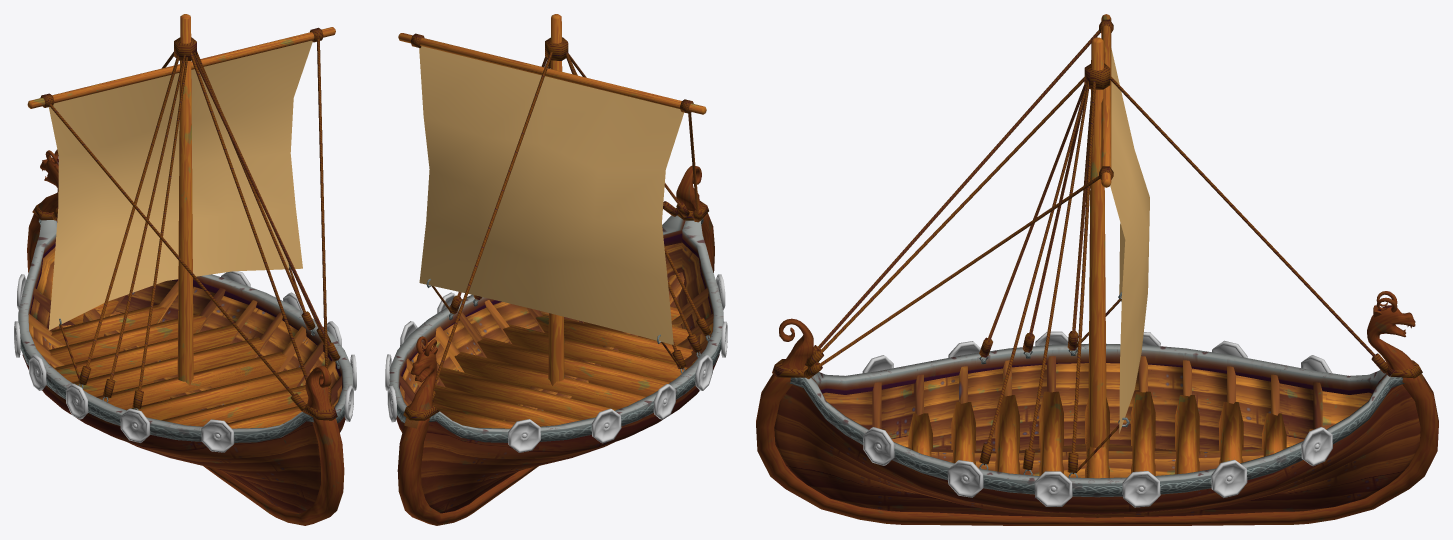
The model's file is VikingShip_ForestProp_003.fbx.
3 renders of one model, left to right at view 1: azimuth 30°, elevation 25°; view 2: azimuth 150°, elevation 25°; view 3: azimuth 270°, elevation 25°, orthographic. The views are drawn at different scales.
Visible parts, largest first — view 1: sail帆.002, Enclosure船围.002, Cabin船舱.002, Hull船身.002, Bottom船底.002, Shield盾牌.002; view 2: sail帆.002, Enclosure船围.002, Hull船身.002, Cabin船舱.002, Bottom船底.002, Shield盾牌.002; view 3: Enclosure船围.002, Cabin船舱.002, Hull船身.002, Bottom船底.002, Shield盾牌.002, sail帆.002.
Part boxes in pixels (left/top/right/bottom): sail帆.002: left=48, top=40, right=312, bottom=330; Enclosure船围.002: left=18, top=14, right=352, bottom=442; Cabin船舱.002: left=28, top=247, right=341, bottom=423; Hull船身.002: left=22, top=226, right=345, bottom=513; Bottom船底.002: left=27, top=149, right=344, bottom=525; Shield盾牌.002: left=14, top=271, right=356, bottom=452; sail帆.002: left=419, top=46, right=683, bottom=344; Enclosure船围.002: left=389, top=14, right=723, bottom=442; Hull船身.002: left=396, top=227, right=719, bottom=513; Cabin船舱.002: left=400, top=242, right=713, bottom=423; Bottom船底.002: left=397, top=166, right=714, bottom=525; Shield盾牌.002: left=385, top=274, right=727, bottom=452; Enclosure船围.002: left=772, top=14, right=1422, bottom=497; Cabin船舱.002: left=822, top=356, right=1372, bottom=477; Hull船身.002: left=774, top=384, right=1420, bottom=517; Bottom船底.002: left=756, top=291, right=1438, bottom=525; Shield盾牌.002: left=862, top=331, right=1332, bottom=507; sail帆.002: left=1110, top=48, right=1149, bottom=433.
Bounding box in the file's own units: 4041 × 5478 × 6993.
